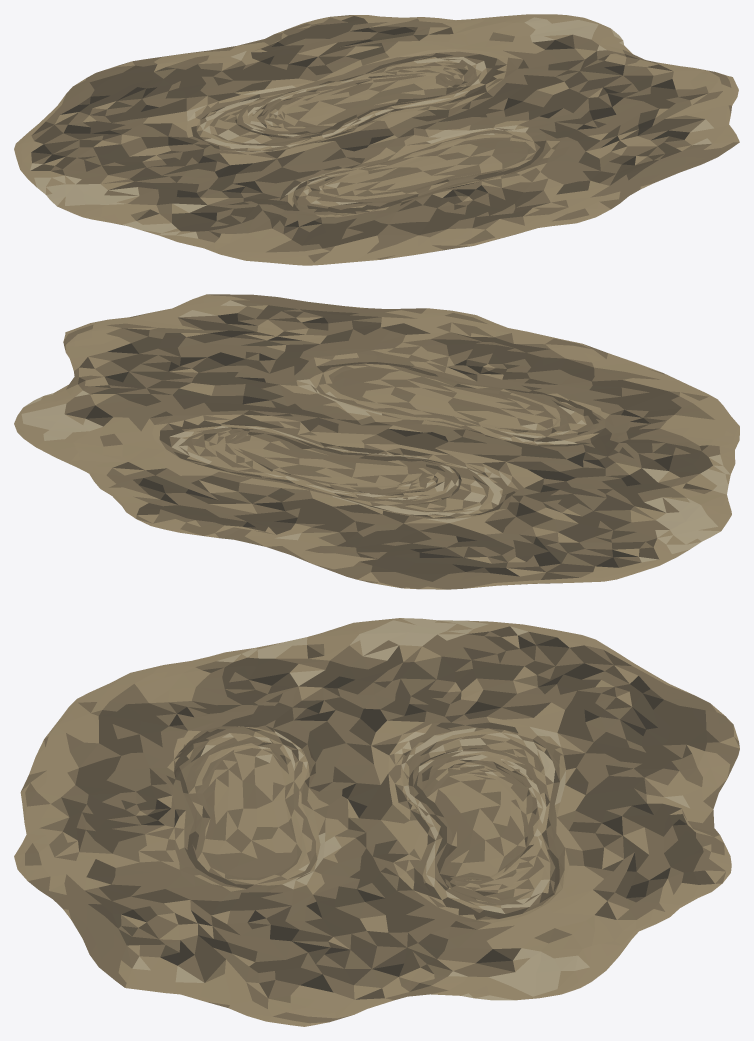
Rendered from fire-trace.glb.
3 views of the same model, one above another, from view 1: azimuth 30°, elevation 25°; view 2: azimuth 150°, elevation 25°; view 3: azimuth 270°, elevation 25° (orthographic). The views are drawn at different scales.
Visible parts, largest first — view 1: adventure_fire_trace_0; view 2: adventure_fire_trace_0; view 3: adventure_fire_trace_0.
Part boxes in pixels (x1,y1,x2,y2): adventure_fire_trace_0: (14, 14, 739, 265); adventure_fire_trace_0: (14, 294, 739, 589); adventure_fire_trace_0: (14, 618, 739, 1026).
Bounding box in the file's own units: 1.8 × 0.025 × 1.35.
